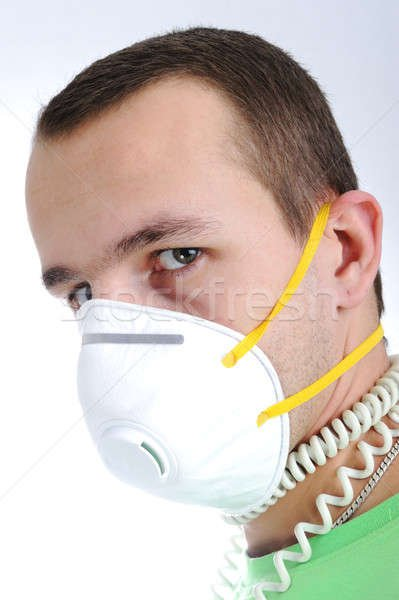mask: (6, 39, 389, 518)
